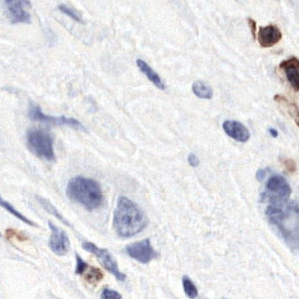Lymphocyte: (257, 24, 284, 48)
